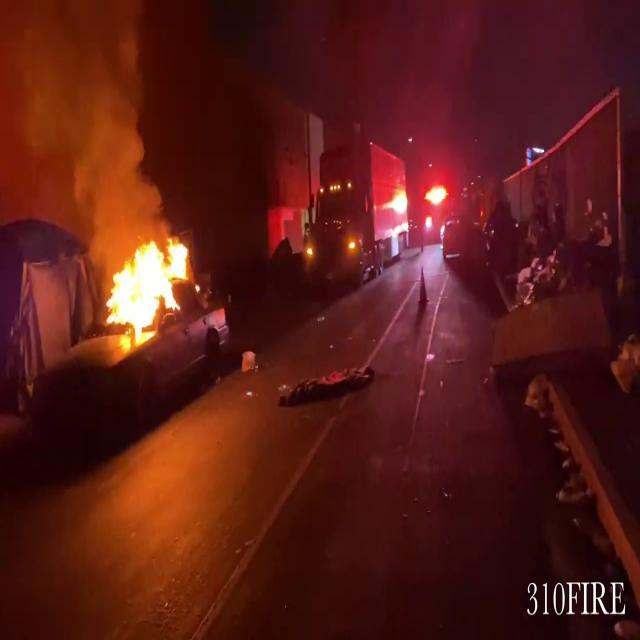Fire: (99, 233, 195, 345)
Smoke: (0, 0, 175, 246)
